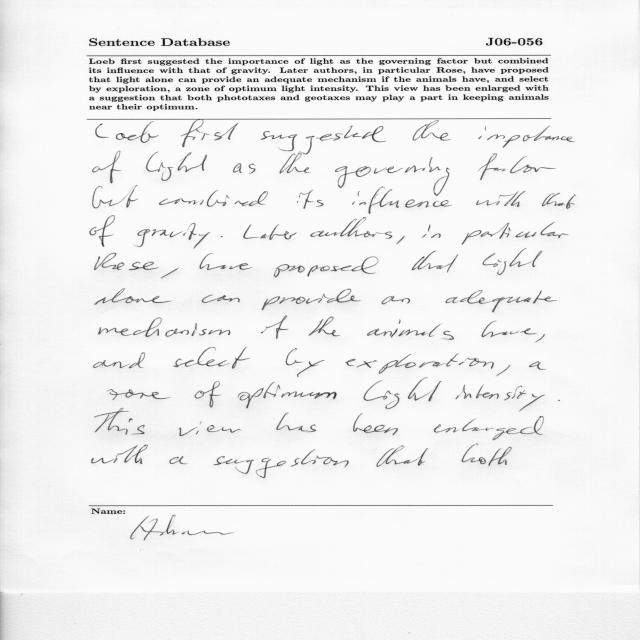word: (335, 157, 449, 196), (213, 450, 349, 479), (261, 126, 387, 155), (345, 353, 494, 374), (352, 186, 451, 214), (433, 416, 544, 440), (99, 317, 230, 337), (238, 382, 337, 408), (456, 384, 546, 412), (445, 290, 557, 312), (462, 222, 569, 245), (364, 378, 442, 409), (274, 257, 379, 278), (478, 126, 575, 148), (478, 153, 556, 180), (261, 289, 361, 310), (136, 223, 210, 249), (159, 190, 268, 207), (311, 217, 393, 239), (146, 152, 207, 181), (367, 320, 454, 340), (173, 347, 250, 369), (483, 249, 543, 275), (181, 120, 238, 147), (108, 389, 171, 412), (96, 121, 159, 143), (95, 288, 171, 305), (376, 445, 428, 467), (94, 253, 159, 270), (286, 348, 324, 377), (95, 413, 145, 435), (462, 444, 512, 466), (92, 445, 148, 464), (93, 185, 138, 208), (412, 251, 458, 273), (353, 414, 398, 436), (178, 421, 241, 436), (93, 151, 122, 183), (200, 253, 252, 270), (482, 321, 537, 337), (243, 224, 297, 240), (94, 353, 145, 369), (476, 191, 526, 207), (90, 215, 115, 247), (413, 120, 451, 141), (276, 413, 316, 432), (195, 382, 222, 408), (280, 153, 311, 174), (309, 317, 341, 337), (261, 316, 288, 339), (542, 193, 576, 209), (297, 190, 324, 209), (202, 294, 240, 303), (421, 224, 441, 238), (233, 163, 255, 174), (382, 296, 411, 304), (161, 268, 178, 278), (496, 365, 511, 376), (529, 361, 546, 370), (170, 456, 188, 464), (535, 334, 545, 342), (397, 236, 405, 245), (221, 236, 223, 237), (558, 400, 560, 401)
